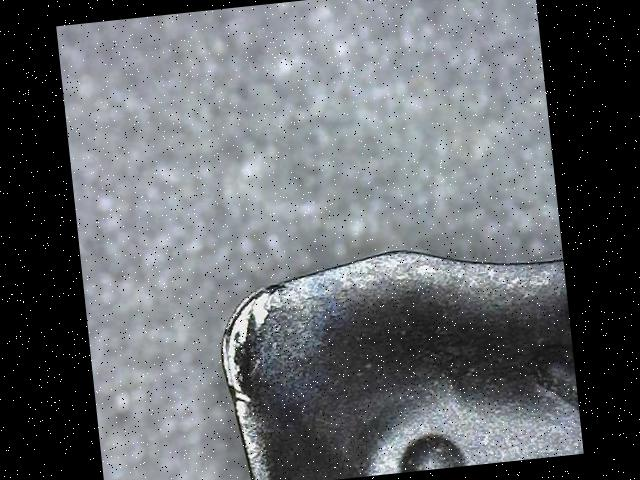normal: (288, 252, 564, 303), (241, 400, 273, 480)
wear: (226, 282, 285, 425)
